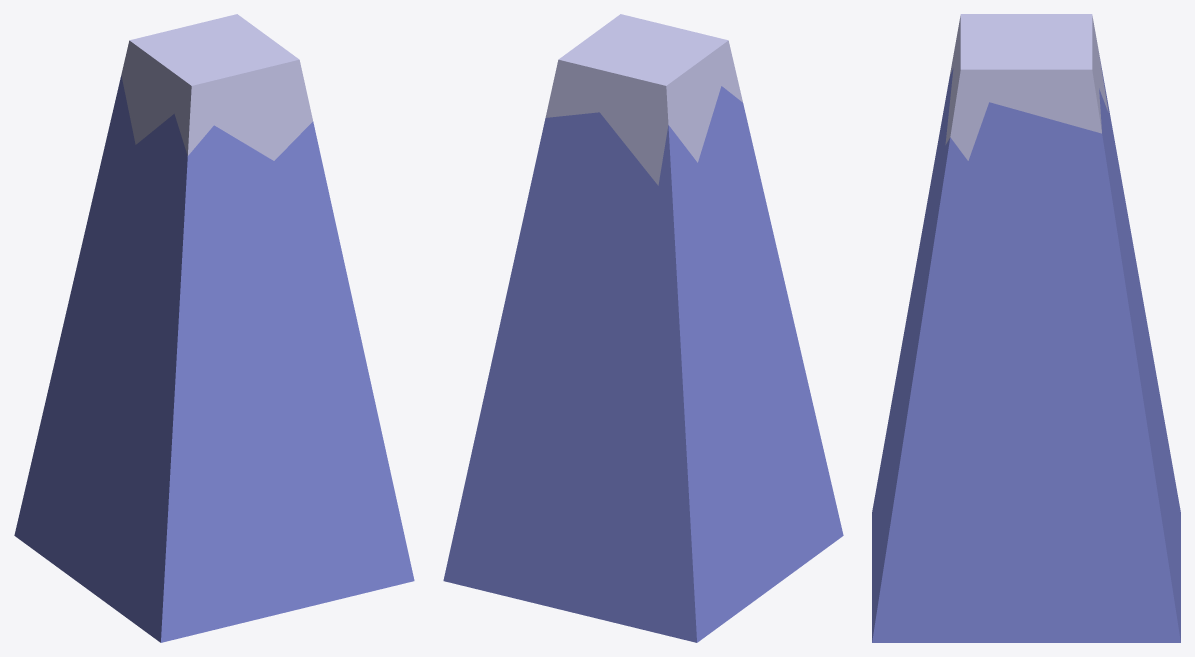
File: mountain.fbx
3 renders of one model, left to right at view 1: azimuth 30°, elevation 25°; view 2: azimuth 150°, elevation 25°; view 3: azimuth 270°, elevation 25°, orthographic. The views are drawn at different scales.
Visible parts, largest first — view 1: Cube; view 2: Cube; view 3: Cube.
Boxes of the visible parts, bbox=[...] form: Cube: bbox=[14, 14, 414, 642]; Cube: bbox=[443, 14, 843, 642]; Cube: bbox=[872, 14, 1180, 642].
Size of the model in its own units: 470 by 900 by 470.
